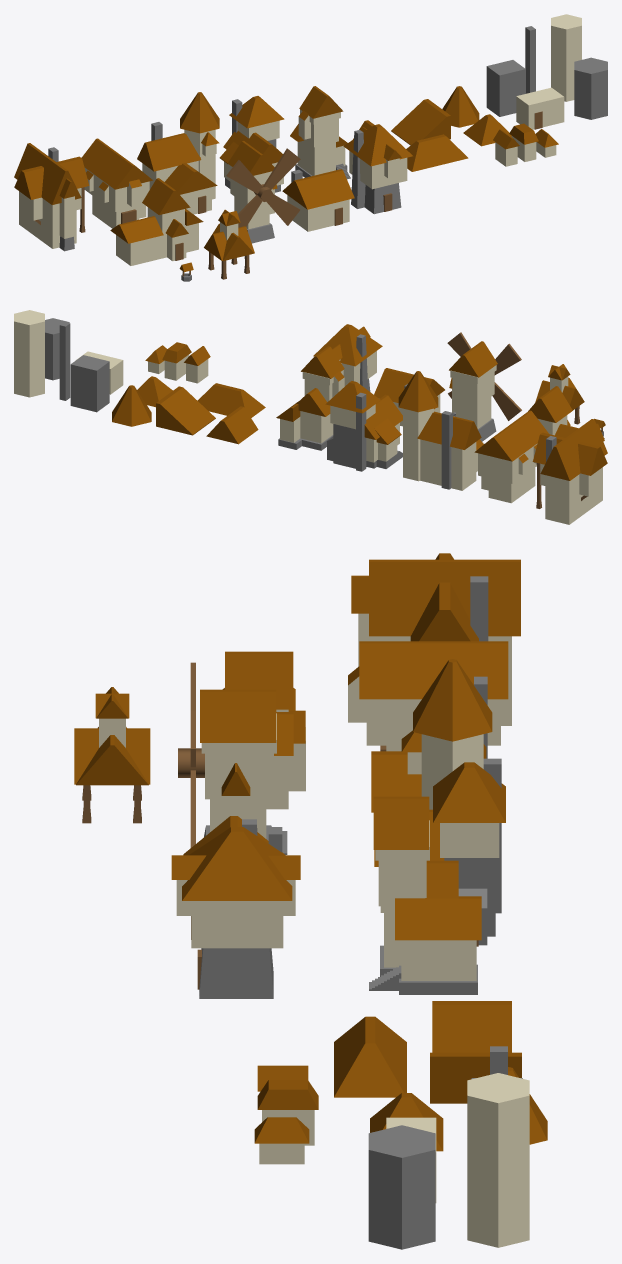
Rendered from house-0.glb.
The picture shows the model from 3 angles, top to bottom: view 1: azimuth 30°, elevation 25°; view 2: azimuth 150°, elevation 25°; view 3: azimuth 270°, elevation 25°; orthographic projection. The views are drawn at different scales.
Visible parts, largest first — view 1: Box159, Box172, Box261, Box267, Object040, Box163, Box244, Box298, Box179, Object065, Object066, Box239 (+10 smaller); view 2: Box172, Box159, Box179, Box267, Box163, Box244, Object065, Object040, Object061, Object058, Box261, Object060 (+11 smaller); view 3: Box244, Object040, Box159, Box267, Box163, Object065, Box179, Box172, Object066, Box239, Box261, Object060 (+6 smaller).
Boxes of the visible parts, box(x1,y1,x2,y2) form: Box159: box(14, 143, 89, 251); Box172: box(137, 92, 219, 214); Box261: box(110, 178, 203, 265); Box267: box(226, 141, 300, 243); Object040: box(343, 124, 412, 214); Box163: box(81, 138, 152, 228); Box244: box(290, 86, 350, 179); Box298: box(282, 169, 354, 231); Box179: box(219, 96, 284, 192); Object065: box(551, 14, 581, 101); Object066: box(574, 57, 607, 119); Box239: box(204, 209, 254, 279); Box172: box(398, 371, 483, 490); Box159: box(532, 419, 607, 524); Box179: box(325, 381, 402, 471); Box267: box(447, 332, 521, 443); Box163: box(474, 410, 548, 503); Box244: box(276, 346, 344, 450); Object065: box(14, 310, 44, 397); Object040: box(313, 324, 382, 391); Object061: box(70, 355, 109, 412); Object058: box(156, 386, 215, 435); Box261: box(528, 386, 604, 466); Object060: box(197, 383, 265, 417); Box244: box(369, 796, 481, 994); Object040: box(171, 819, 300, 998); Box159: box(351, 553, 520, 725); Box267: box(178, 662, 287, 854); Box163: box(348, 641, 508, 751); Object065: box(467, 1073, 529, 1247); Box179: box(374, 758, 505, 946); Box172: box(371, 659, 492, 812); Object066: box(368, 1125, 435, 1249); Box239: box(74, 687, 150, 823); Box261: box(222, 651, 305, 809); Object060: box(334, 1016, 406, 1097).
Size of the model in its own units: 73.97 by 12.59 by 26.42.
1 material, 1 textured.
